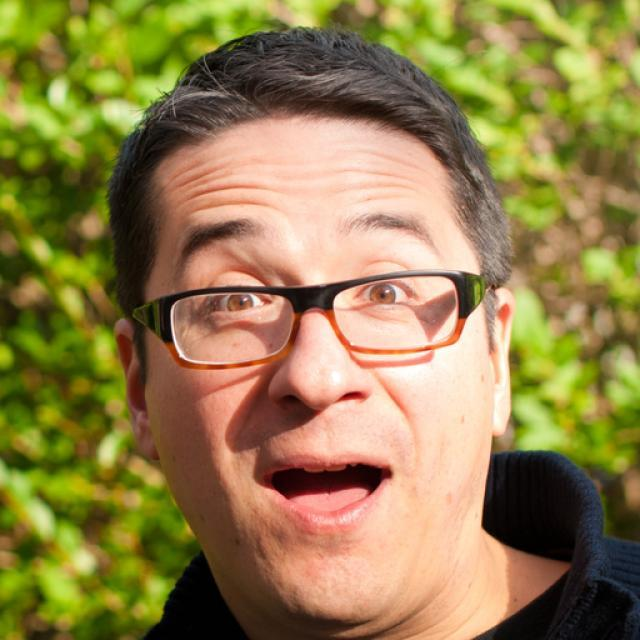surprise: (144, 121, 496, 628)
